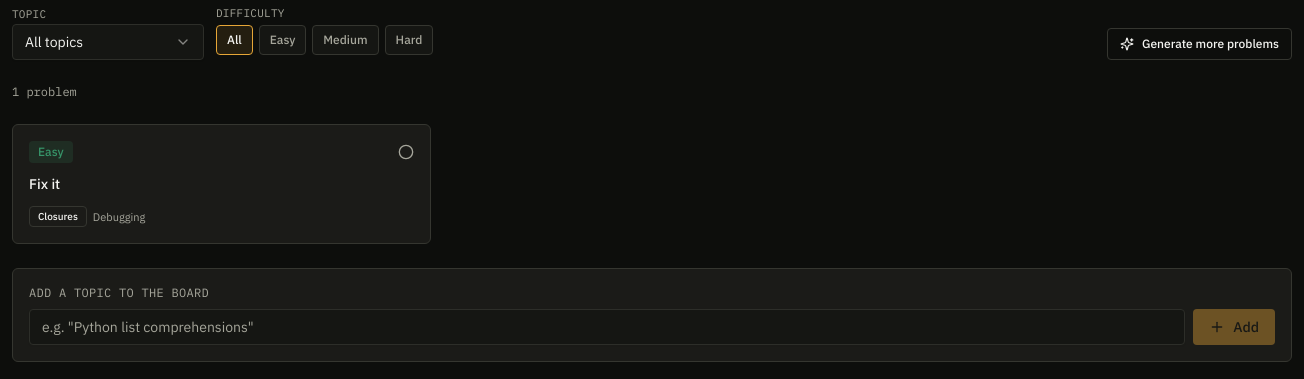
it: PracticeBoard › locked topics › labels locked topics in the topic filter
Click the dropdown. click: (108,42)
box: [12,24,204,60]
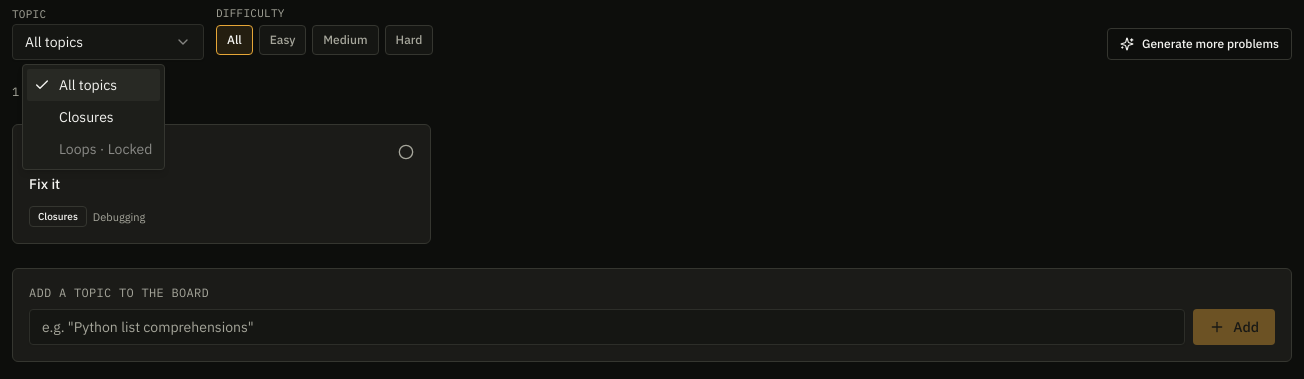
Check: the option "Loops · Locked" is shown, box [59,140,152,158]
Check: the option "Closures" is shown, box [59,108,114,126]
Press Escape
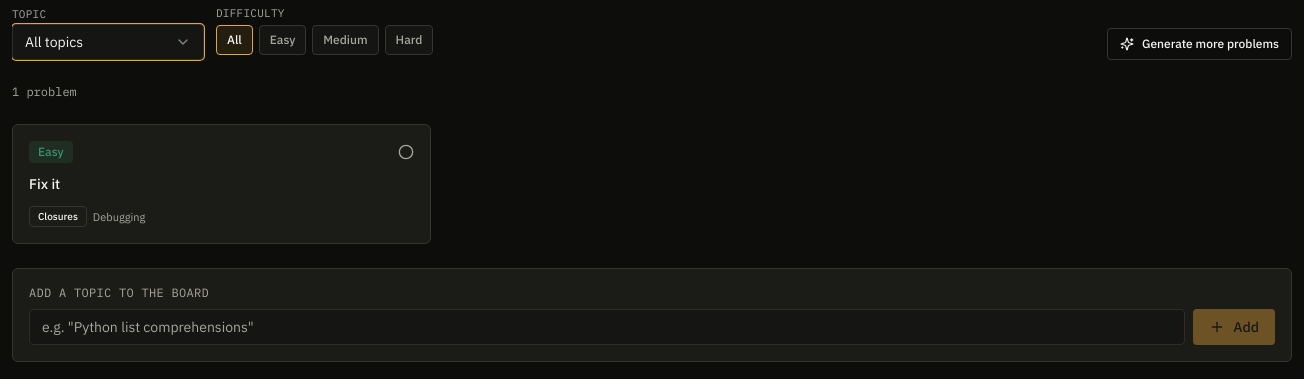
Check: the list is gone
